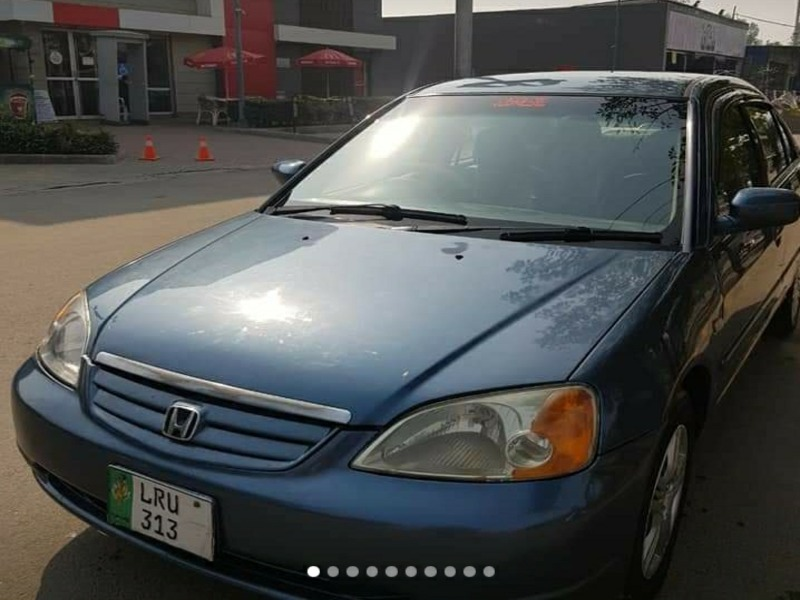License Plate: (103, 460, 219, 567)
